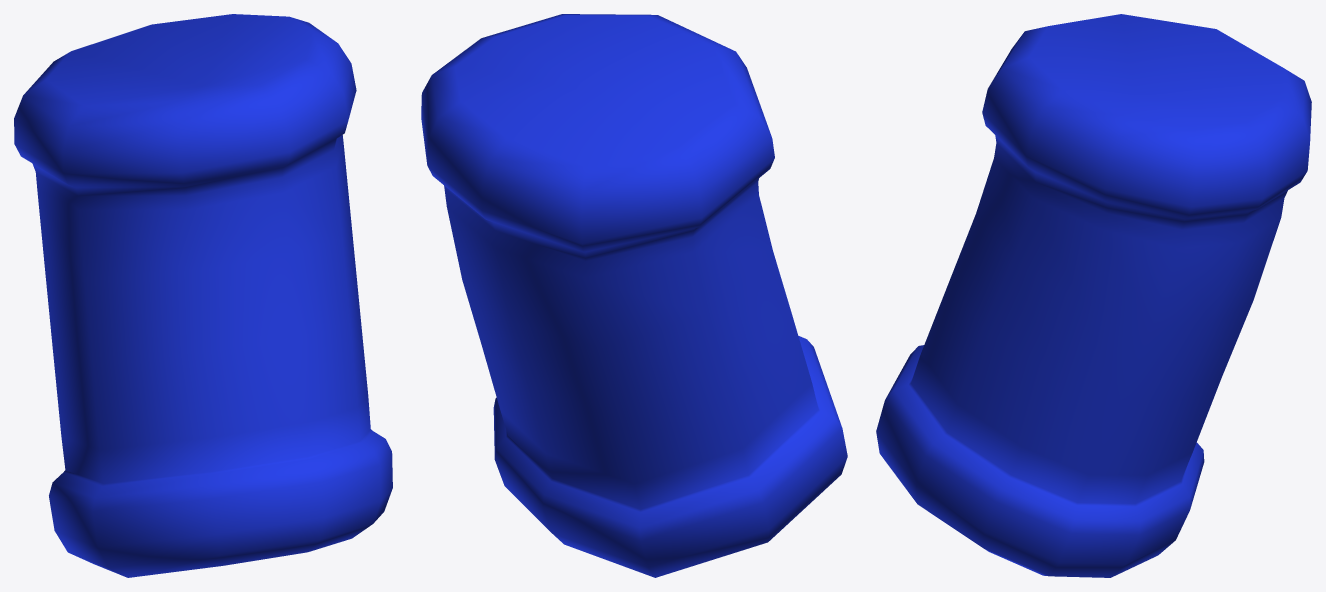
File: Wristband_L.fbx
3 views of the same model, side by side, from view 1: azimuth 30°, elevation 25°; view 2: azimuth 150°, elevation 25°; view 3: azimuth 270°, elevation 25° (orthographic).
Parts seen in each view (by area): view 1: Wristband_L; view 2: Wristband_L; view 3: Wristband_L.
Part boxes in pixels (x1,y1,x2,y2): Wristband_L: (14, 14, 392, 577); Wristband_L: (421, 14, 847, 577); Wristband_L: (876, 14, 1311, 577).
Size of the model in its own units: 0.3972 by 0.574 by 0.4547.
